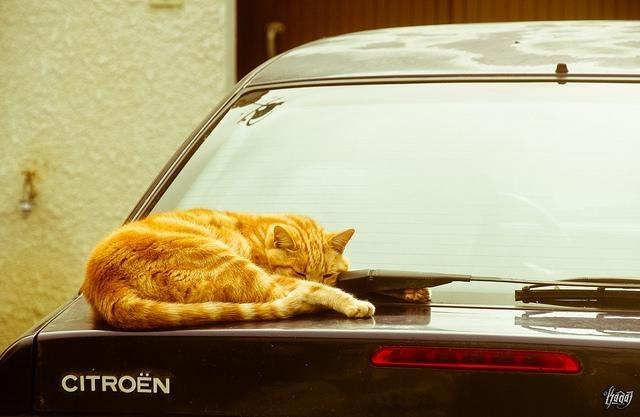car: (0, 18, 640, 412)
